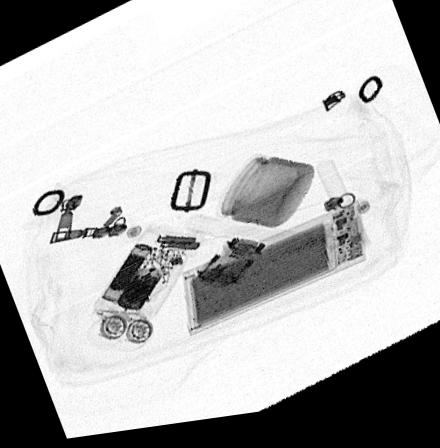Powerbank: (183, 210, 368, 342)
